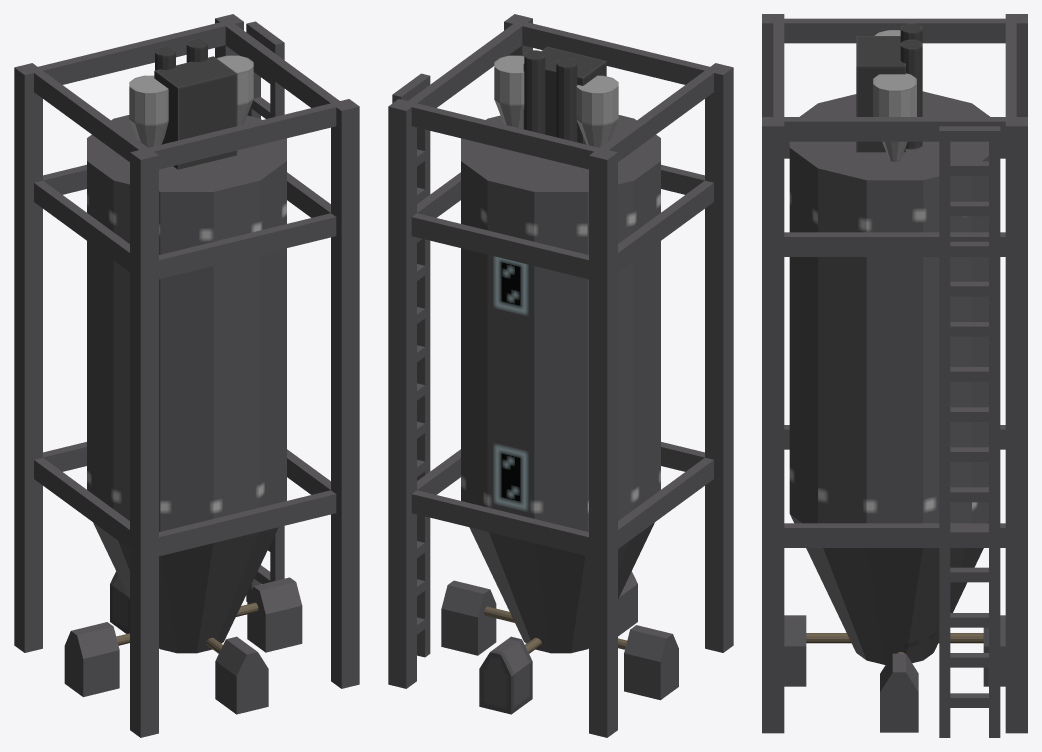
Rendered from ore_acidizer.obj.
3 views of the same model, side by side, from view 1: azimuth 30°, elevation 25°; view 2: azimuth 150°, elevation 25°; view 3: azimuth 270°, elevation 25° (orthographic). The views are drawn at different scales.
Parts seen in each view (by area): view 1: cube; view 2: cube; view 3: cube.
Part boxes in pixels (x1=…): cube: x1=14, y1=14, x2=359, y2=737; cube: x1=388, y1=14, x2=733, y2=737; cube: x1=762, y1=14, x2=1027, y2=737.
Size of the model in its own units: 3.14 by 8 by 3.
